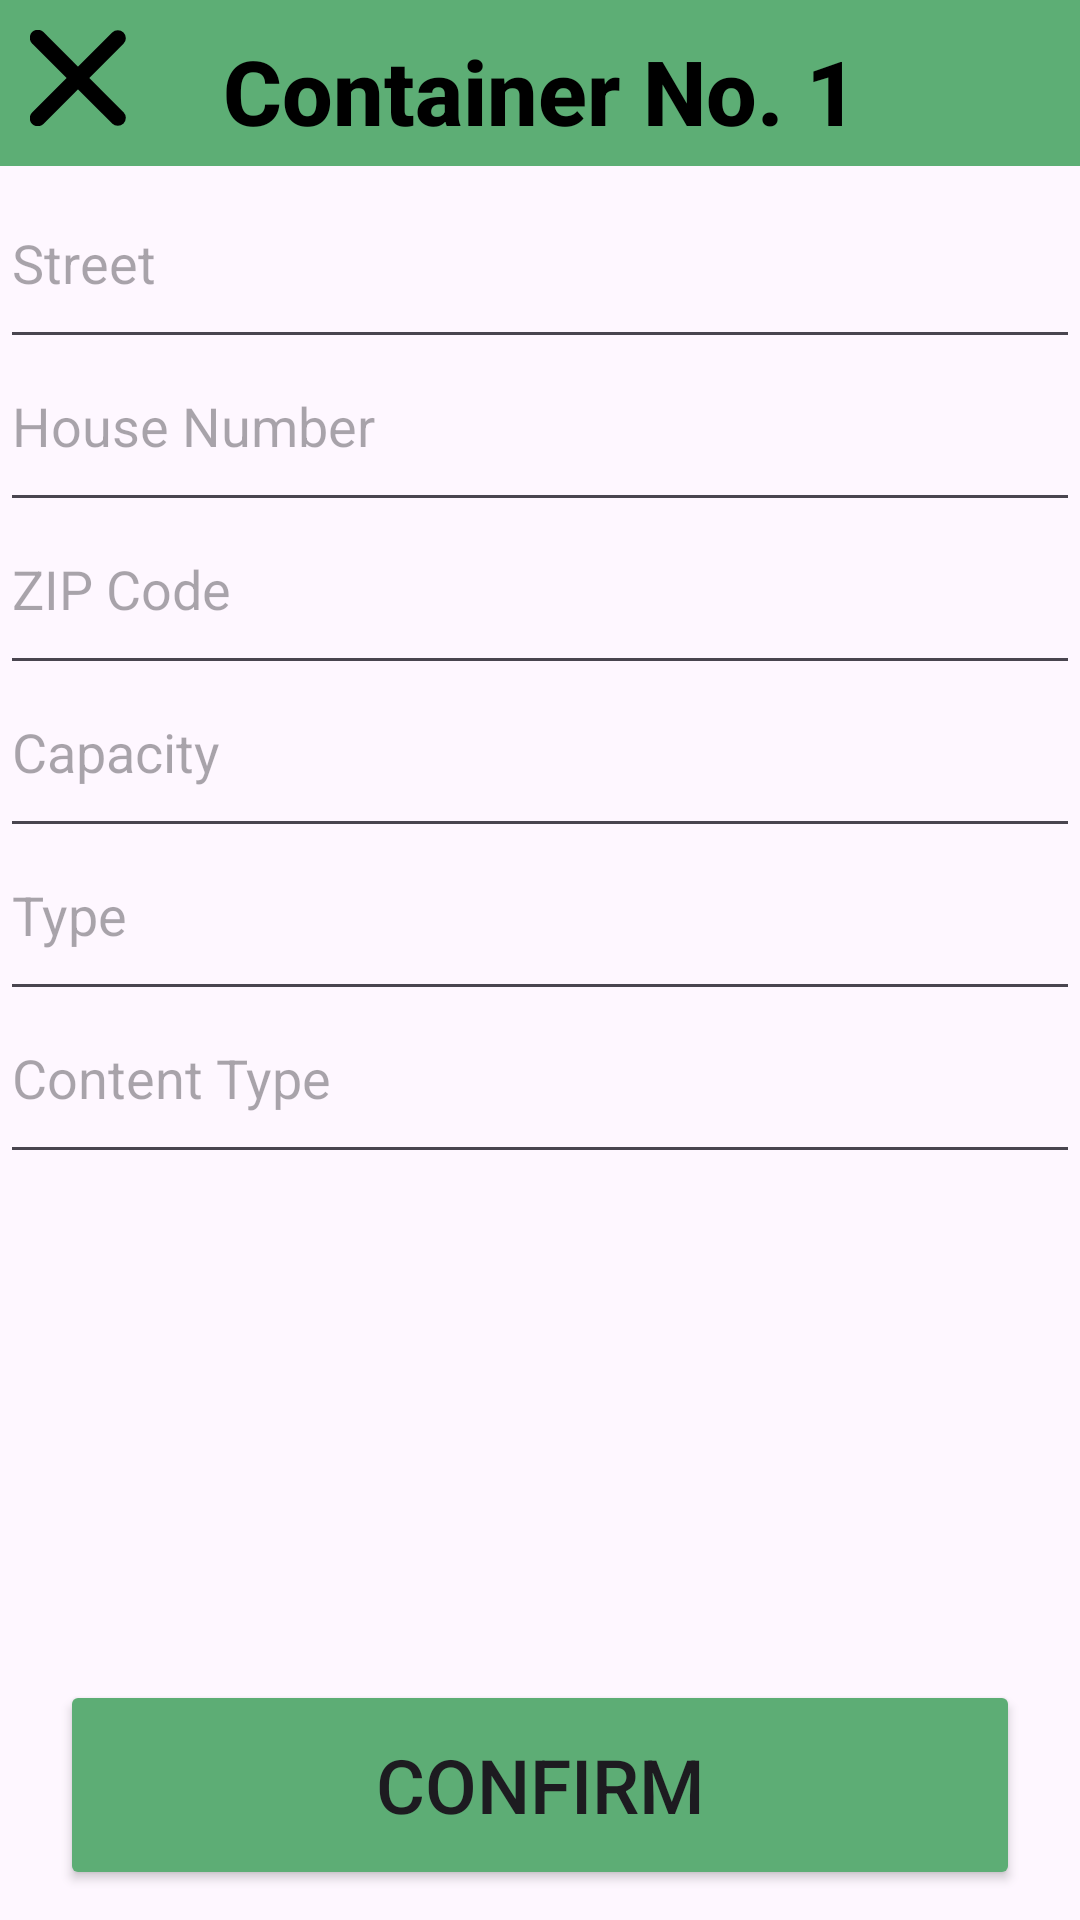

Where icons sit on this 1080*1920 app screen, as (x1, y1, x2, y2):
close: (30, 30, 126, 126)
